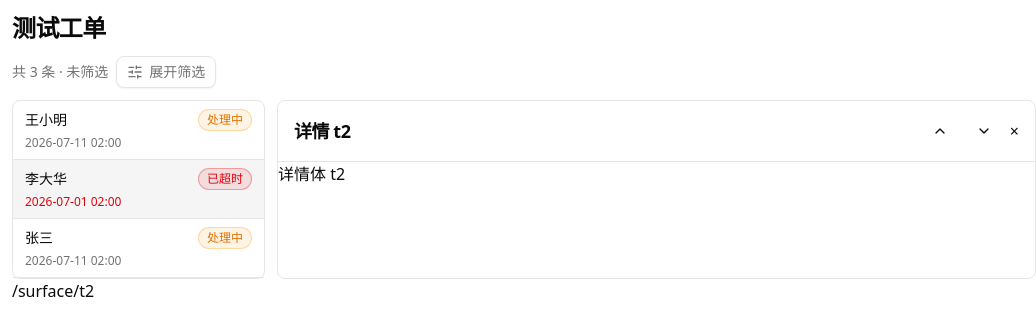
Test: 翻单契约 › ←/→ 与 ↑/↓ 同向；prev/next 按钮同一逻辑
Expected: the element named "工单详情" shows "详情 t2", [294,119,350,143]
Press ArrowRight in the element named "工单详情", box [278,101,1035,185]
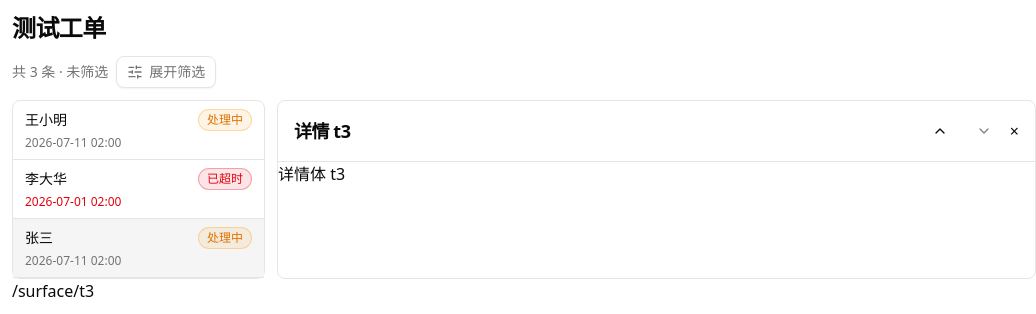
Expected: the button named "下一条工单" is disabled, [966,113,1002,149]
Now the element named "工单详情" shows "详情 t3", box [294,119,350,143]
Press ArrowLeft in the element named "工单详情", box [278,101,1035,185]
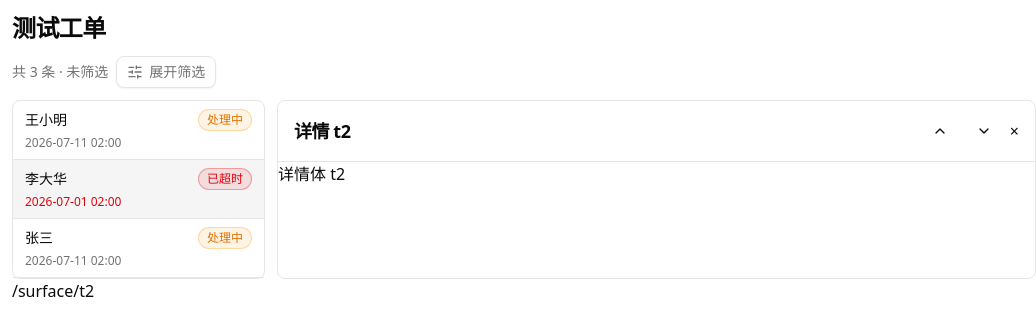
Now the element named "工单详情" shows "详情 t2", box [294,119,350,143]
Click the button named "上一条工单".
click(940, 131)  # box [922,113,958,149]
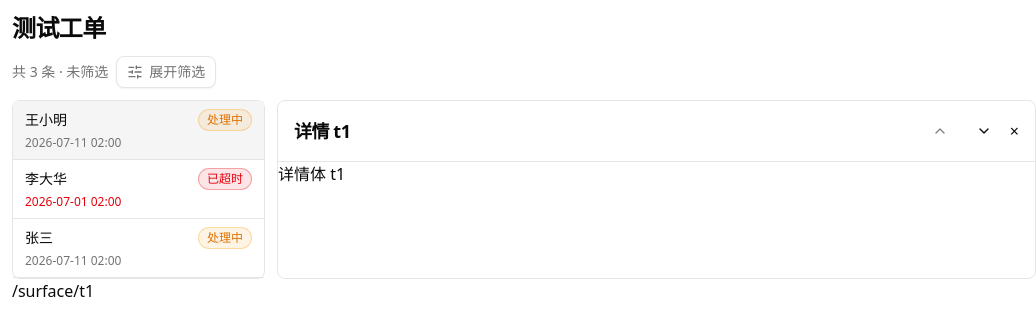
Now the element named "工单详情" shows "详情 t1", box [294,119,350,143]
Click the button named "下一条工单".
click(984, 131)  # box [966,113,1002,149]
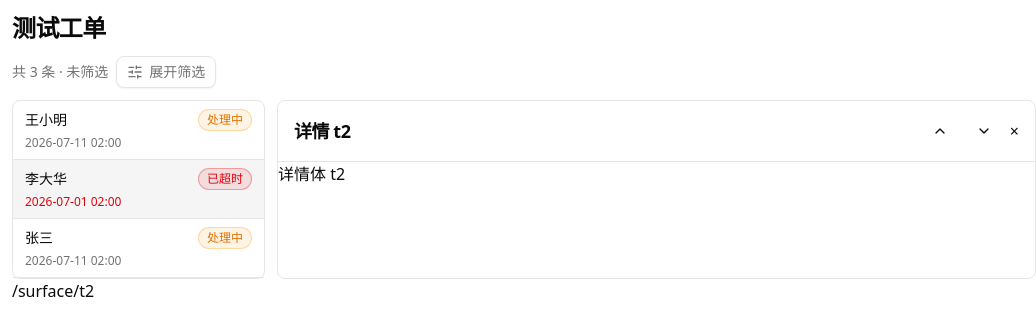
Now the element named "工单详情" shows "详情 t2", box [294,119,350,143]
